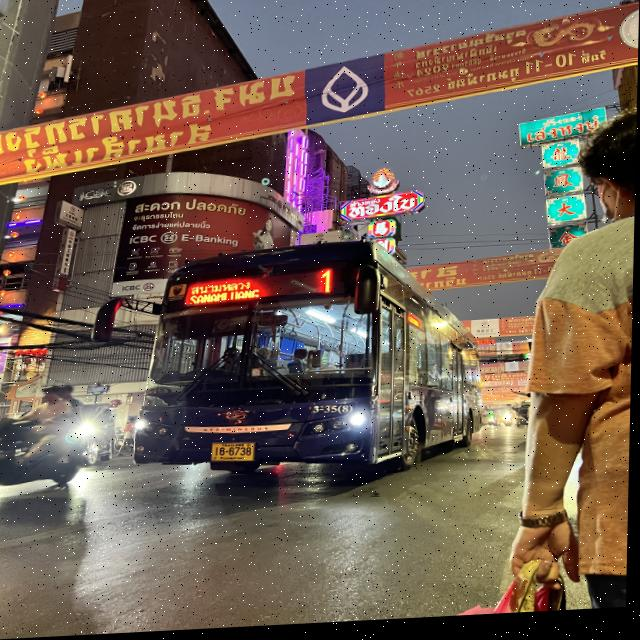Bus Line Number: (309, 266, 349, 302)
Bus Side Number: (308, 404, 361, 420)
Destination Sign: (189, 275, 270, 311)
TSB-Bus: (129, 245, 486, 475)
